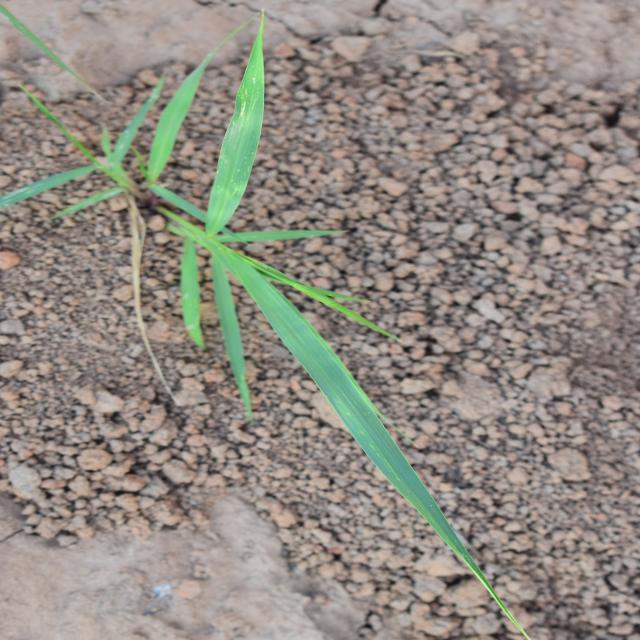green_foxtail: (151, 96, 576, 454)
